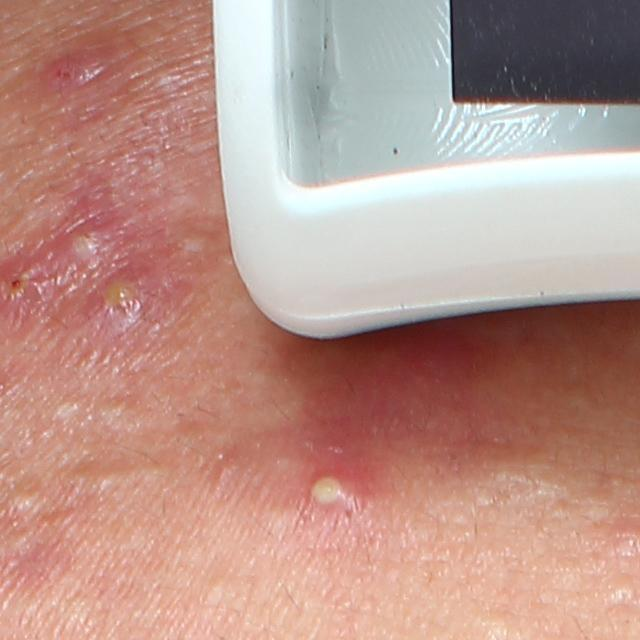comedo: (62, 459, 121, 501), (49, 394, 84, 422), (202, 577, 233, 605), (610, 578, 639, 601)
papule: (37, 49, 111, 96)
pustule: (295, 450, 389, 516), (85, 270, 160, 325), (62, 215, 125, 275)
